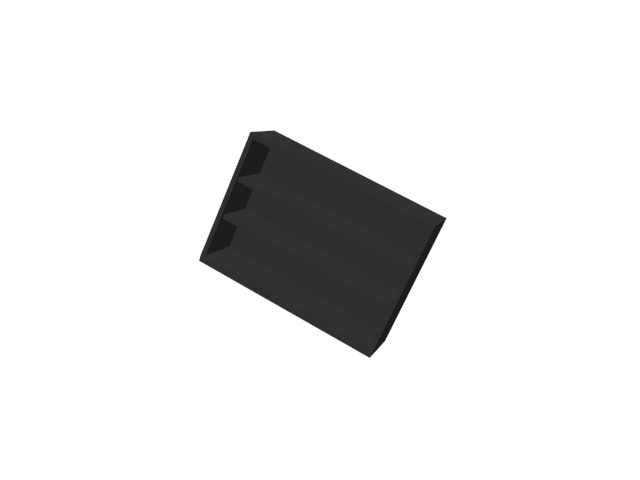bookcase: (193, 129, 448, 360)
